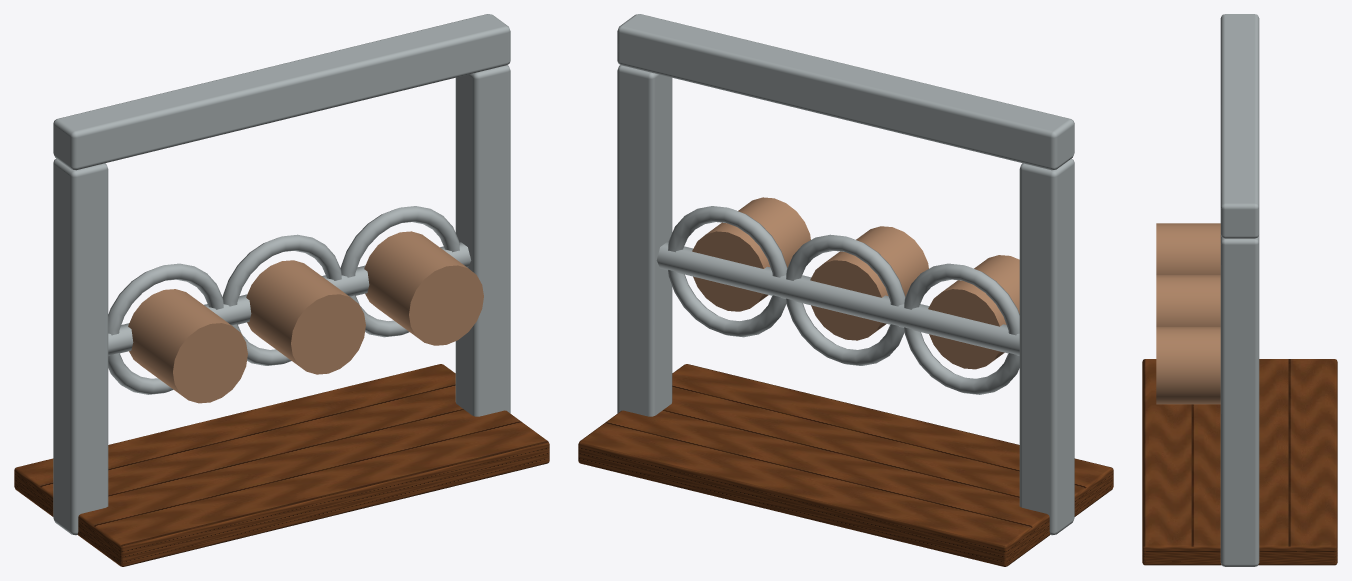
The model's file is salvage-and-repair-workshop-spool-dispenser-13af116e__25445.glb.
The picture shows the model from 3 angles, left to right: view 1: azimuth 30°, elevation 25°; view 2: azimuth 150°, elevation 25°; view 3: azimuth 270°, elevation 25°; orthographic projection. The views are drawn at different scales.
Parts seen in each view (by area): view 1: spool-dispenser; view 2: spool-dispenser; view 3: spool-dispenser.
Boxes of the visible parts, box(x1,y1,x2,y2) form: spool-dispenser: box(14, 14, 549, 566); spool-dispenser: box(578, 14, 1113, 566); spool-dispenser: box(1142, 14, 1337, 566).
Bounding box in the file's own units: 0.82 × 0.72 × 0.35.
Materials: 3 (1 with a texture image).
